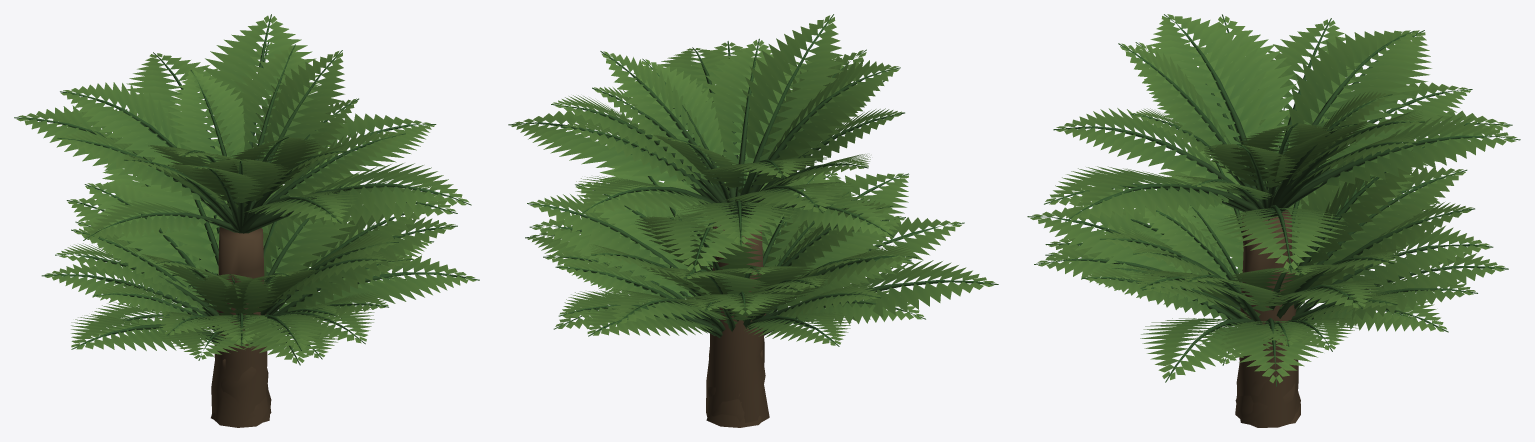
The model's file is cycad.glb.
3 views of the same model, side by side, from view 1: azimuth 30°, elevation 25°; view 2: azimuth 150°, elevation 25°; view 3: azimuth 270°, elevation 25° (orthographic). The views are drawn at different scales.
Parts seen in each view (by area): view 1: cycad2, cycad0, cycad1; view 2: cycad2, cycad0, cycad1; view 3: cycad2, cycad0, cycad1.
Part boxes in pixels (left/top/right/bottom): cycad2: left=14, top=14, right=471, bottom=427; cycad0: left=41, top=125, right=479, bottom=422; cycad1: left=71, top=181, right=431, bottom=427; cycad2: left=508, top=14, right=904, bottom=422; cycad0: left=525, top=134, right=964, bottom=425; cycad1: left=543, top=136, right=998, bottom=427; cycad2: left=1044, top=14, right=1520, bottom=427; cycad0: left=1027, top=108, right=1474, bottom=424; cycad1: left=1045, top=150, right=1508, bottom=427.
Size of the model in its own units: 3.6 by 2.77 by 3.44.
